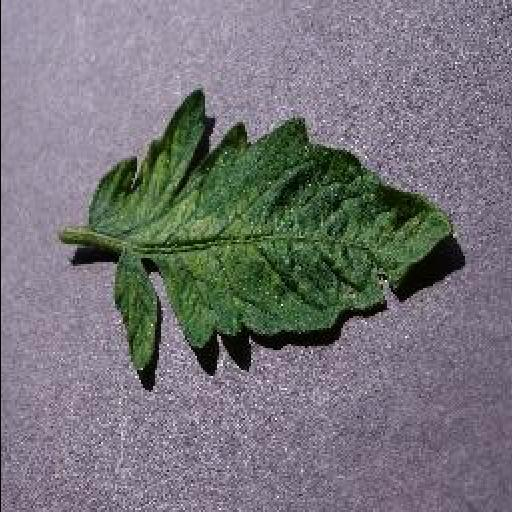disease_tomato: (86, 82, 460, 378)
